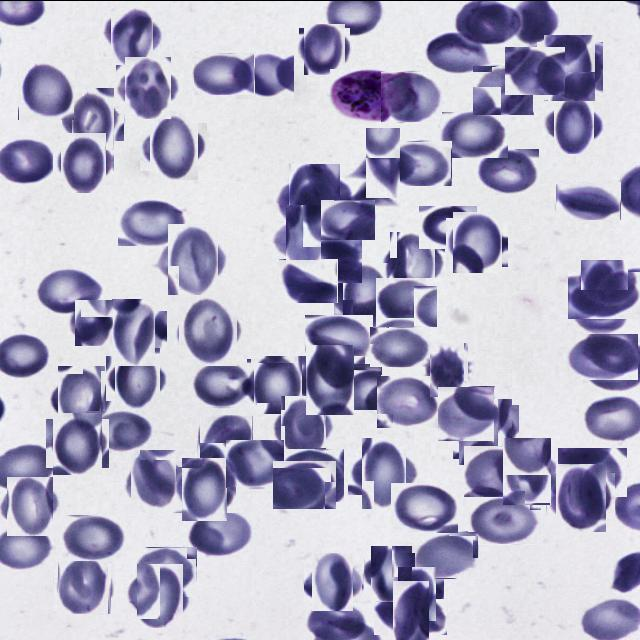red blood cell: (282, 168, 346, 232), (177, 298, 240, 362), (163, 228, 224, 289), (468, 494, 542, 544), (456, 401, 516, 461), (300, 349, 360, 409), (574, 265, 634, 324), (278, 448, 344, 501), (464, 444, 530, 496), (540, 38, 599, 96), (551, 468, 610, 526), (558, 447, 627, 496), (355, 443, 413, 501), (144, 117, 202, 175), (498, 441, 556, 499), (116, 197, 186, 245), (391, 482, 458, 532), (566, 333, 638, 379), (377, 374, 439, 427), (187, 508, 252, 558), (53, 370, 110, 426), (449, 213, 505, 270), (38, 266, 104, 314), (56, 556, 112, 612), (338, 266, 394, 322), (50, 414, 106, 470), (106, 304, 162, 360), (273, 459, 337, 508), (438, 385, 495, 440), (440, 111, 508, 157), (376, 276, 438, 326), (276, 399, 331, 455), (132, 568, 188, 623), (19, 63, 74, 119), (415, 530, 479, 578), (62, 513, 127, 560), (381, 71, 442, 121), (249, 356, 304, 411), (137, 546, 197, 596), (305, 314, 373, 358), (473, 65, 534, 114), (177, 462, 232, 516), (120, 60, 175, 114), (198, 414, 252, 468), (386, 236, 440, 290), (110, 350, 164, 404), (296, 238, 362, 282), (476, 148, 539, 194), (388, 140, 452, 185), (505, 46, 565, 94), (322, 362, 382, 409), (57, 135, 110, 188), (356, 136, 409, 189), (66, 92, 120, 144), (384, 588, 438, 640), (226, 440, 284, 488), (88, 410, 154, 452), (192, 362, 254, 406), (128, 453, 180, 505), (278, 212, 330, 264), (4, 479, 56, 531), (423, 32, 492, 71), (236, 52, 294, 98), (570, 289, 630, 333), (279, 258, 338, 302), (194, 52, 255, 94), (370, 326, 434, 366), (308, 556, 358, 606), (107, 10, 157, 60), (419, 205, 477, 248), (556, 182, 621, 220), (368, 548, 417, 598), (550, 100, 598, 148), (321, 198, 376, 239), (393, 570, 440, 616), (302, 26, 348, 72), (426, 347, 472, 392), (73, 302, 115, 344)
schizont: (330, 68, 402, 121)
